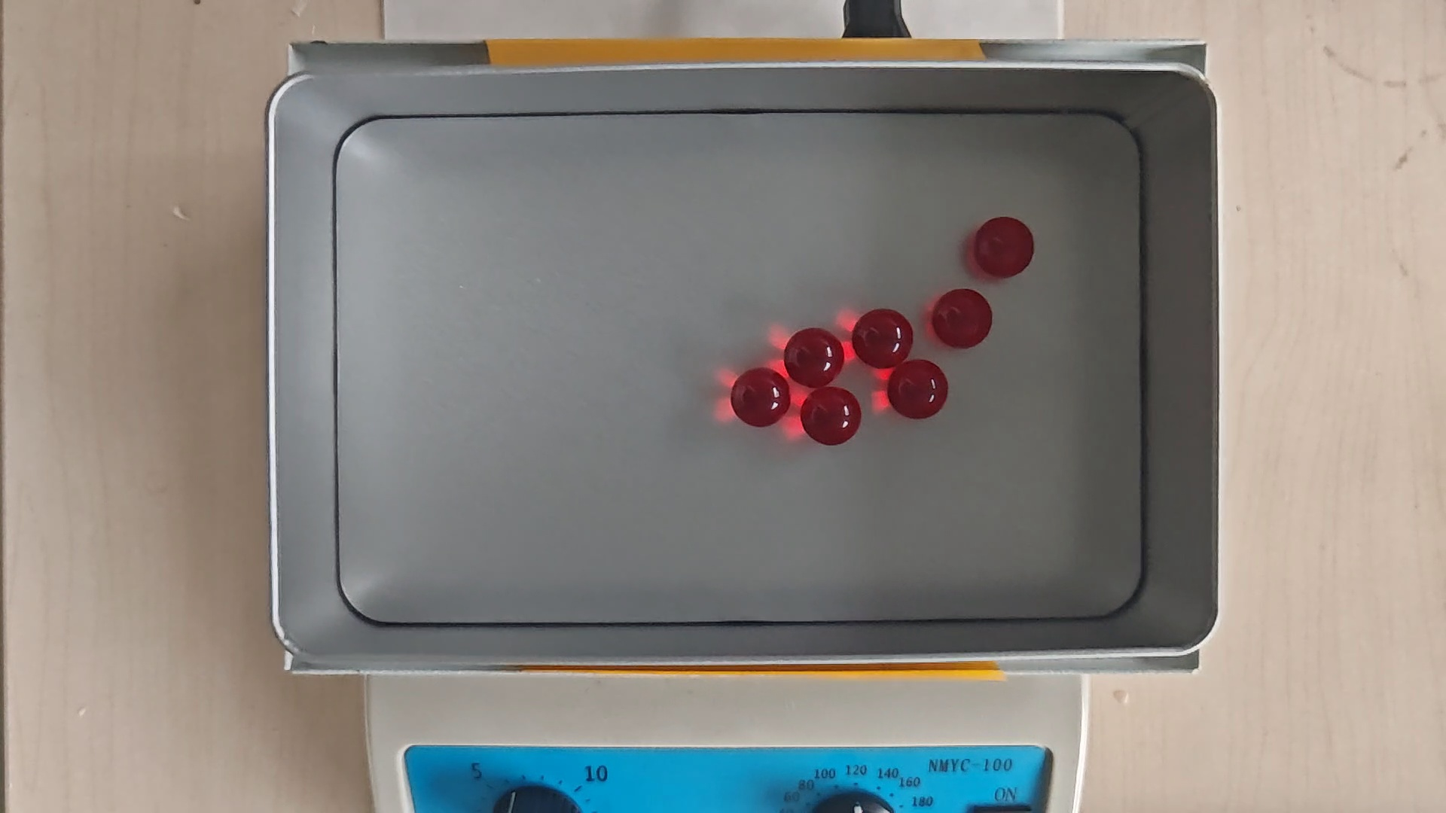ball: (973, 217, 1036, 277), (929, 288, 993, 347), (802, 387, 861, 448), (784, 327, 843, 385), (890, 362, 947, 419), (853, 309, 909, 367), (732, 370, 786, 428)
container: (330, 111, 1145, 623)
